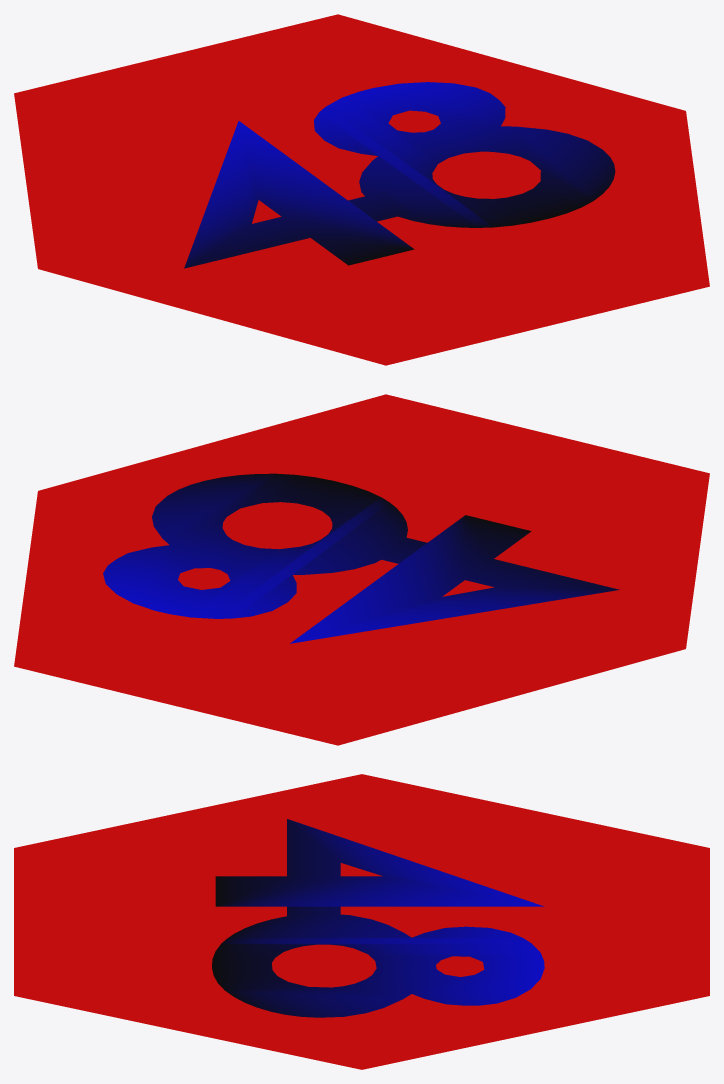
The model's file is SM_Number_48.fbx.
3 renders of one model, top to bottom at view 1: azimuth 30°, elevation 25°; view 2: azimuth 150°, elevation 25°; view 3: azimuth 270°, elevation 25°, orthographic. The views are drawn at different scales.
Parts seen in each view (by area): view 1: FBX_OUT; view 2: FBX_OUT; view 3: FBX_OUT.
Part boxes in pixels (box(x1,y1,x2,y2)): FBX_OUT: box(14, 14, 709, 365); FBX_OUT: box(14, 394, 709, 745); FBX_OUT: box(14, 774, 709, 1069).
Size of the model in its own units: 50 by 0.2917 by 49.71.
